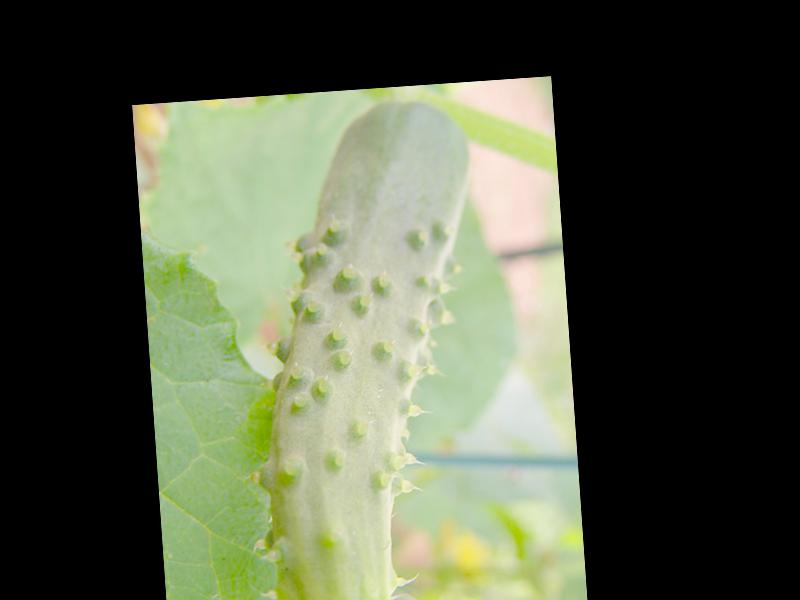Cucumber: (234, 94, 502, 600)
